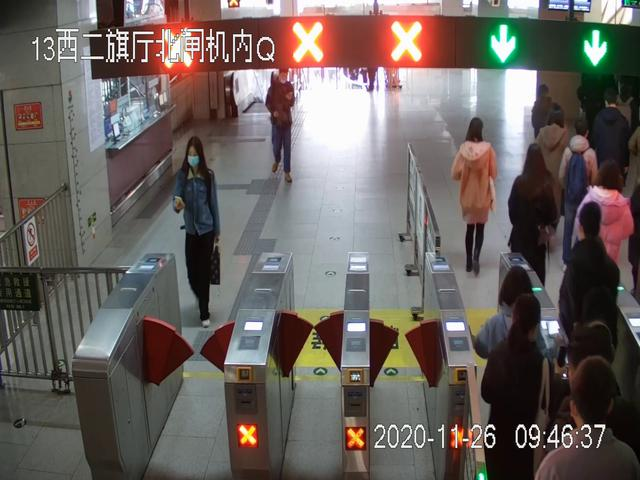person: (479, 294, 556, 480), (559, 204, 622, 427), (532, 356, 640, 480), (468, 266, 539, 454), (171, 136, 224, 328), (576, 159, 635, 321), (509, 144, 562, 311), (450, 119, 499, 275), (558, 122, 600, 270), (266, 65, 299, 187)
